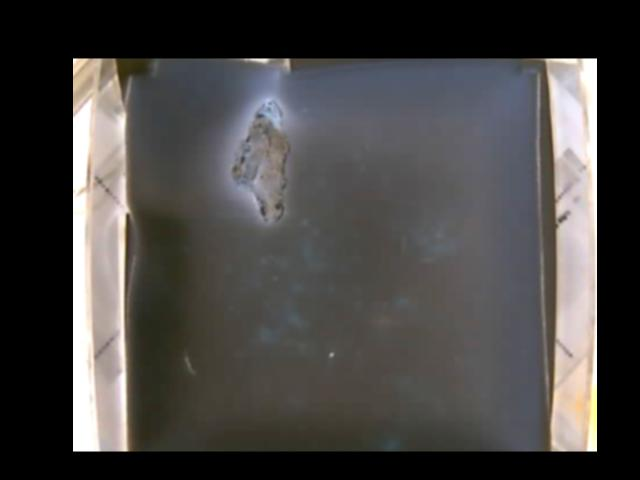Brisk: (230, 99, 286, 224)
